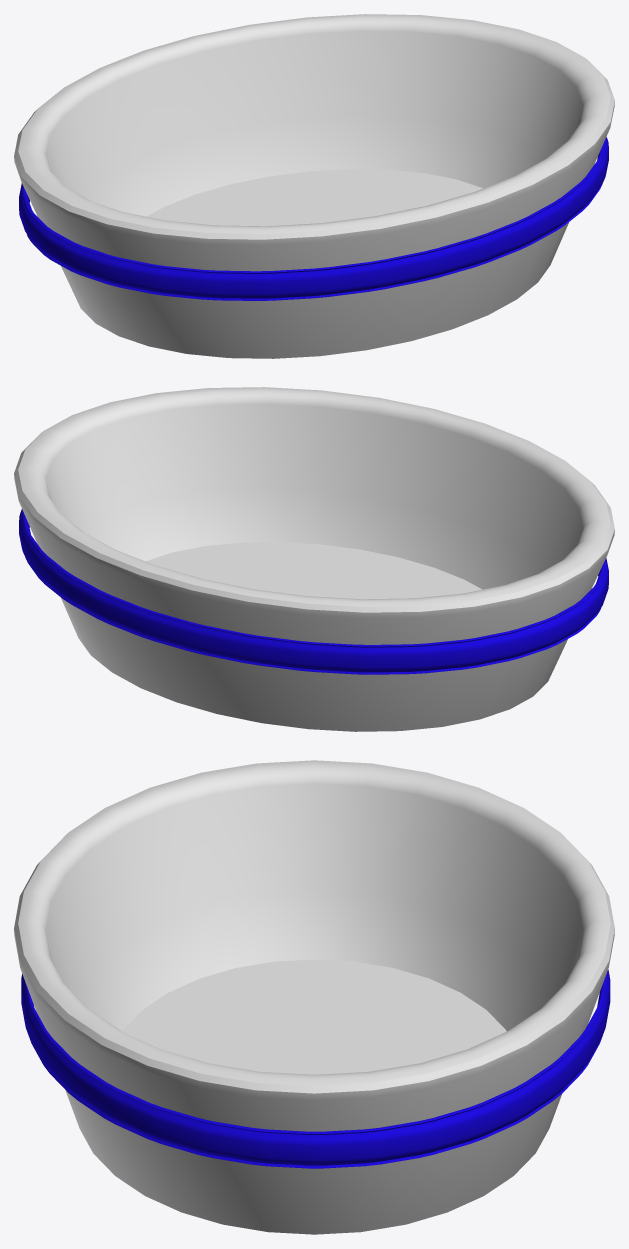
File: Bathtub(Baked)3.fbx
3 renders of one model, top to bottom at view 1: azimuth 30°, elevation 25°; view 2: azimuth 150°, elevation 25°; view 3: azimuth 270°, elevation 25°, orthographic. The views are drawn at different scales.
Visible parts, largest first — view 1: Cylinder, Circle; view 2: Cylinder, Circle; view 3: Cylinder, Circle.
Boxes of the visible parts, x1=… form: Cylinder: x1=14, y1=14, x2=614, y2=358; Circle: x1=19, y1=137, x2=608, y2=300; Cylinder: x1=14, y1=387, x2=614, y2=731; Circle: x1=19, y1=509, x2=608, y2=674; Cylinder: x1=14, y1=760, x2=614, y2=1234; Circle: x1=21, y1=969, x2=610, y2=1168.
Size of the model in its own units: 445 by 114 by 342.
